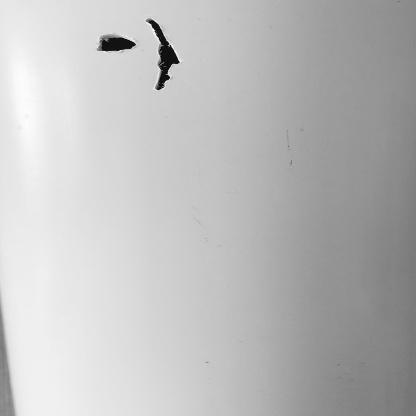kongdong: (146, 12, 192, 91), (90, 25, 145, 60)
